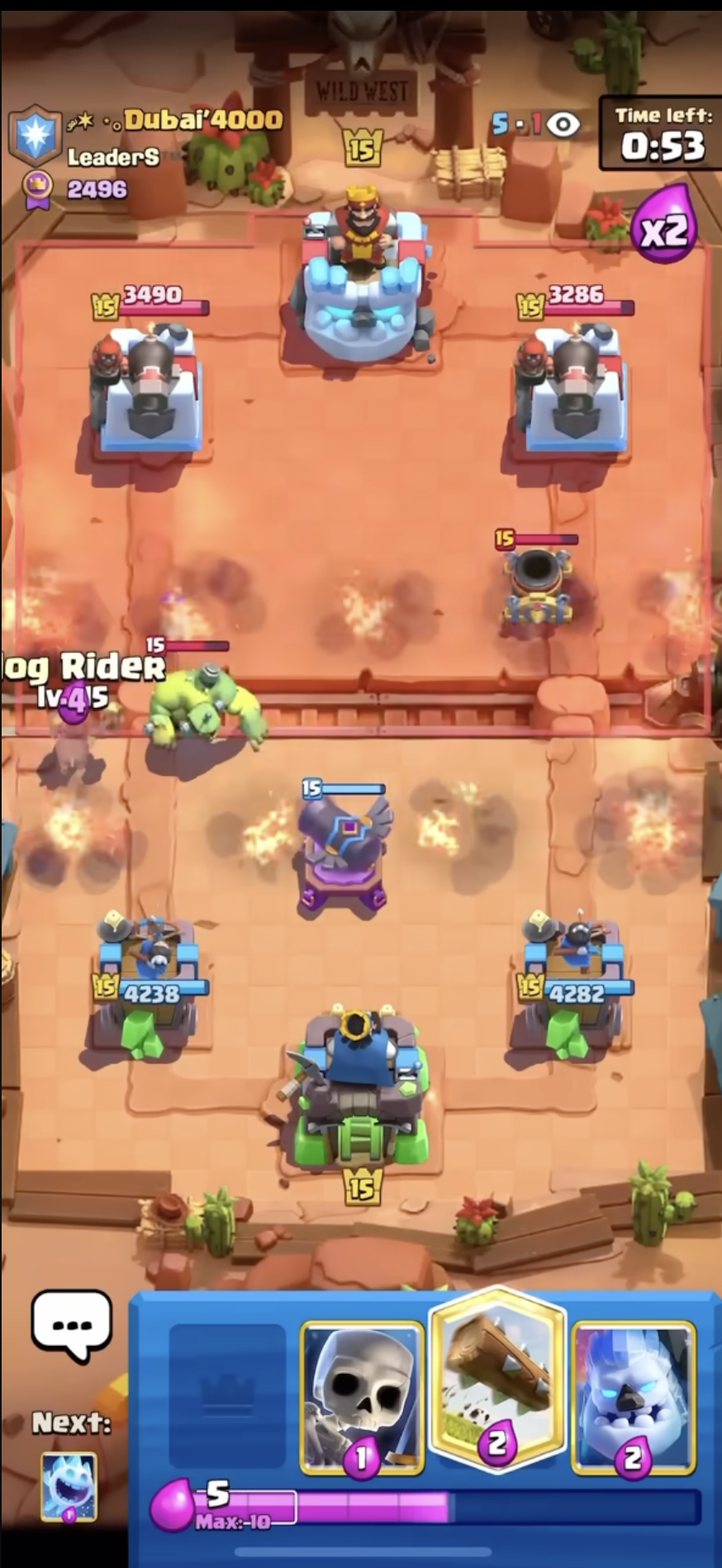evo-cannon: (281, 763, 406, 940)
